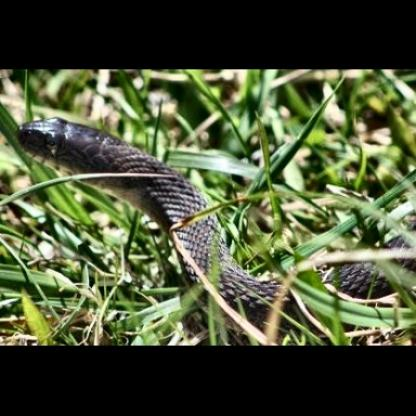Snake: (6, 112, 414, 328)
